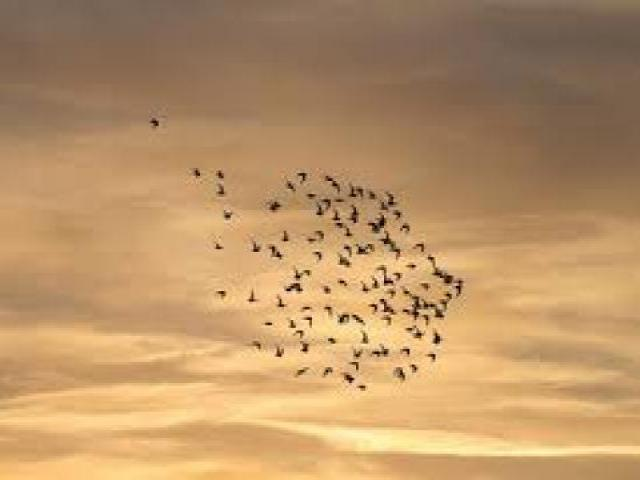flock of birds: (131, 95, 465, 416)
